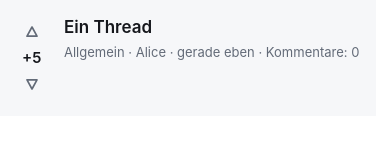
Test case: ThreadCard vote control › changes the score from the list when the up arrow is clicked
Click the button named "Hochstimmen" at (32, 32), box [16,16,48,48]
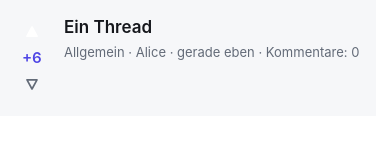
Result: the text named "Punktzahl: 6" reads "+6" at [22,48,42,67]
